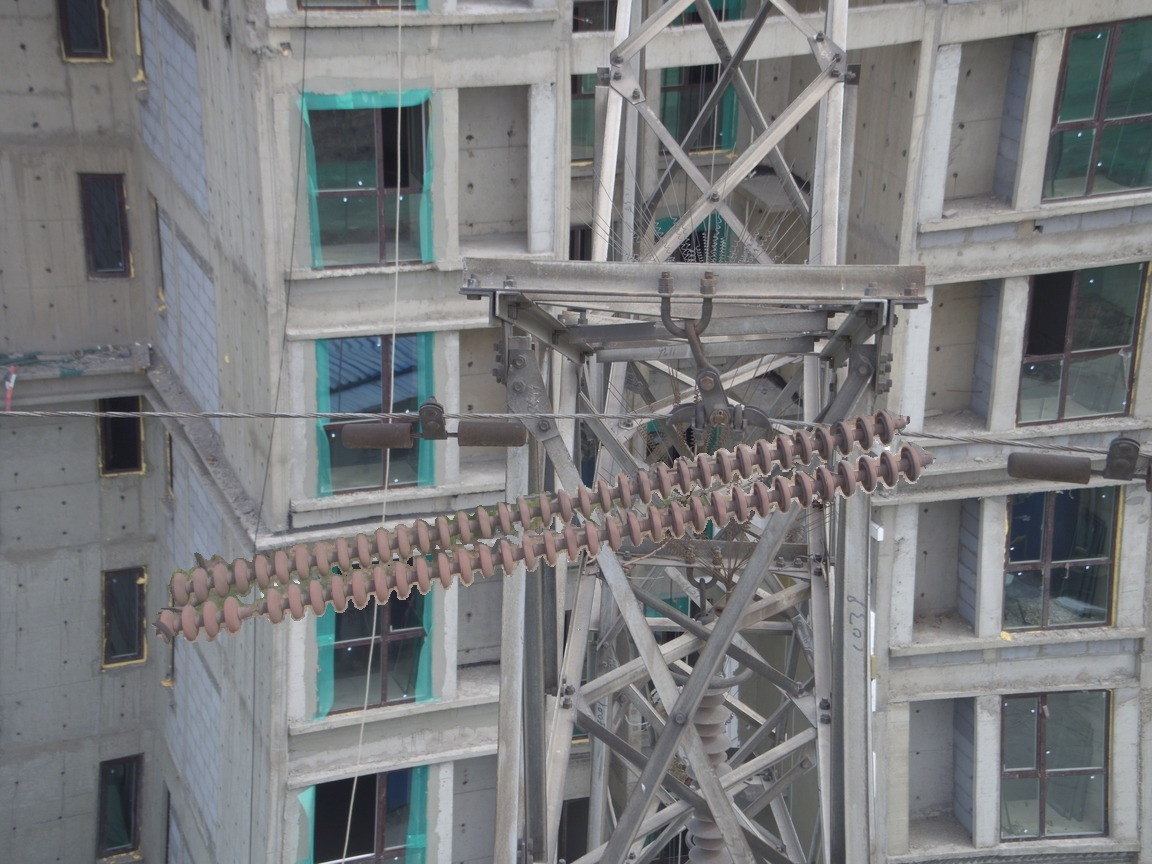defect: (217, 584, 287, 634)
